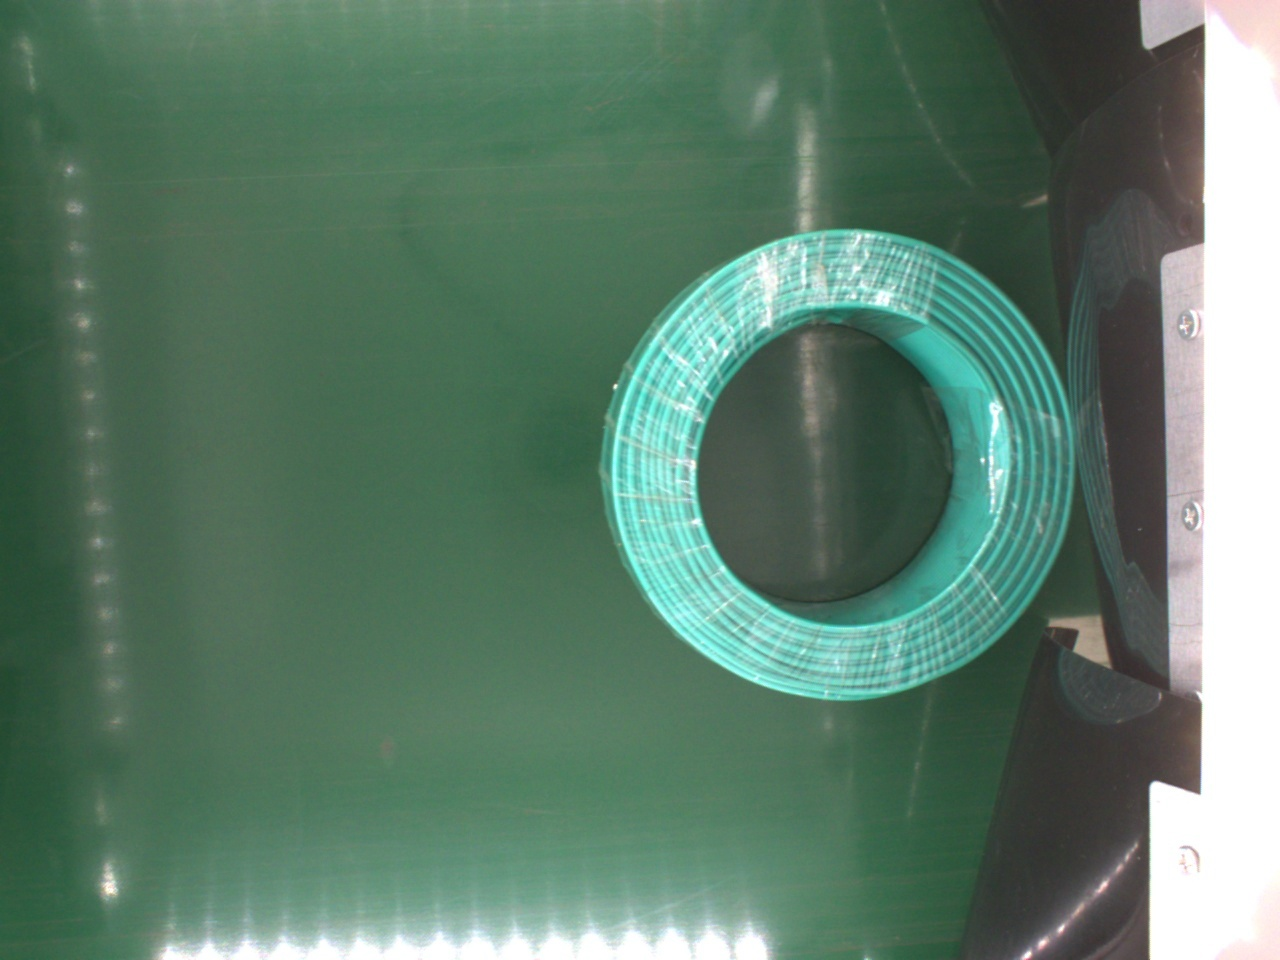green: (600, 225, 1082, 707)
